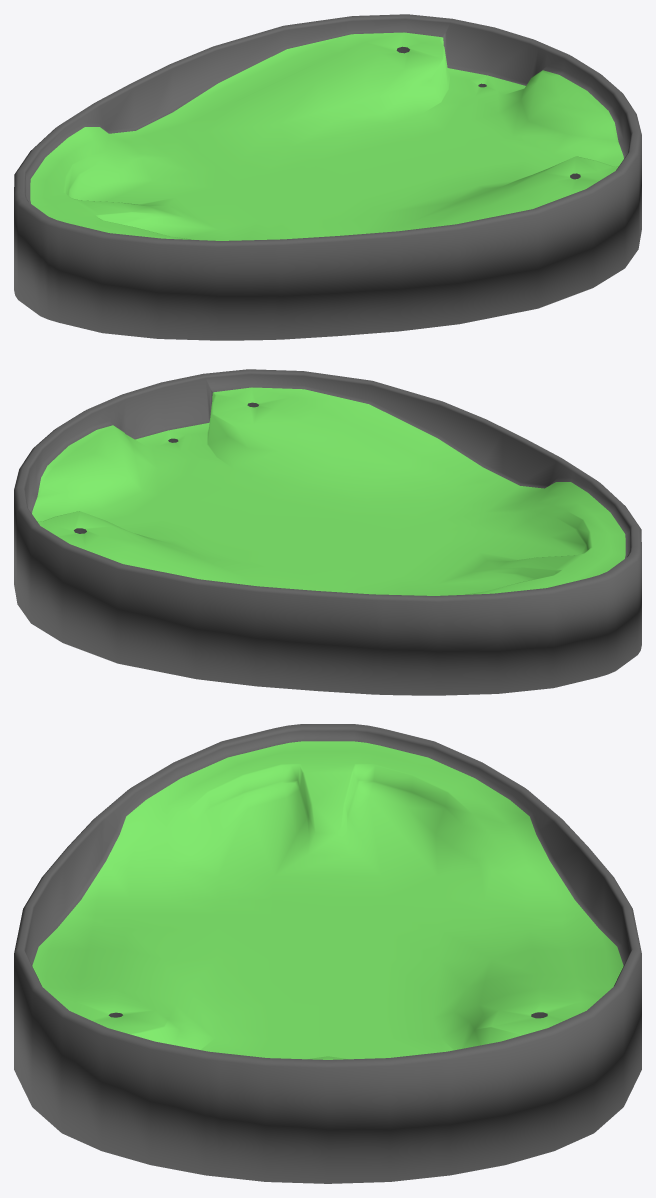
The model's file is FaceCourse.fbx.
3 renders of one model, top to bottom at view 1: azimuth 30°, elevation 25°; view 2: azimuth 150°, elevation 25°; view 3: azimuth 270°, elevation 25°, orthographic. The views are drawn at different scales.
Visible parts, largest first — view 1: Cylinder; view 2: Cylinder; view 3: Cylinder.
Part boxes in pixels (left/top/right/bottom): Cylinder: left=14, top=14, right=641, bottom=340; Cylinder: left=14, top=369, right=641, bottom=695; Cylinder: left=14, top=724, right=641, bottom=1183.
Bounding box in the file's own units: 2332 × 379 × 1805.
